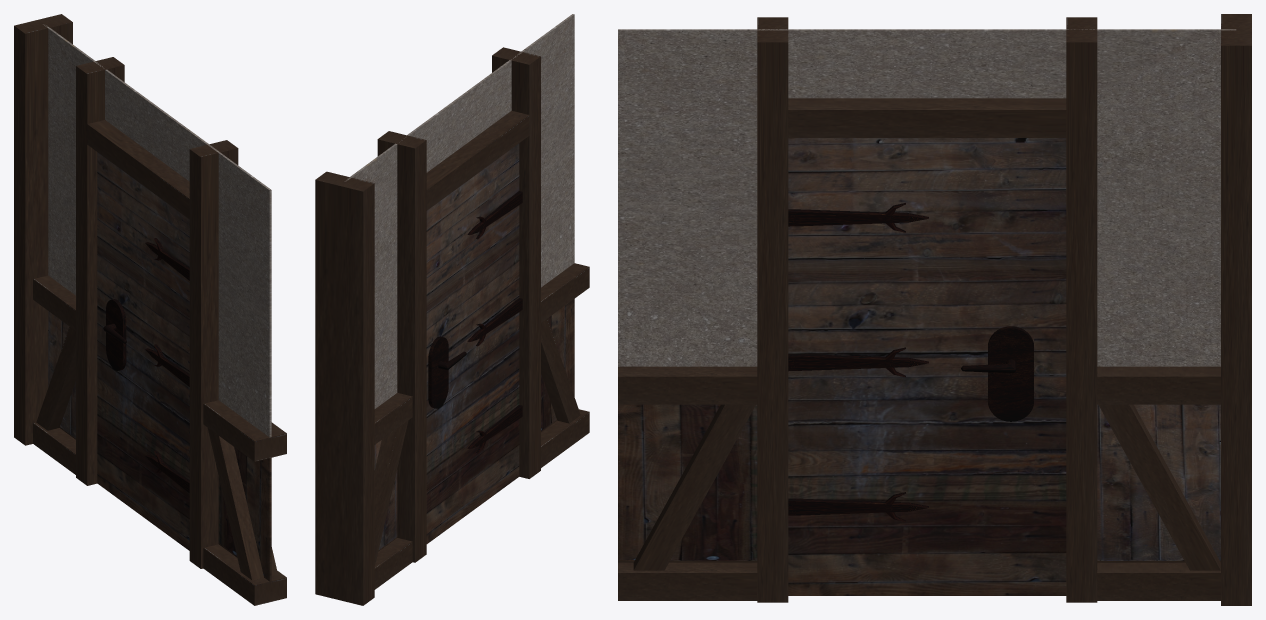
The model's file is OutdoorArchitecture_BasicWall01_Door01_Closed_RightEdge_BShortt.fbx.
The picture shows the model from 3 angles, left to right: view 1: azimuth 30°, elevation 25°; view 2: azimuth 150°, elevation 25°; view 3: azimuth 270°, elevation 25°; orthographic projection. The views are drawn at different scales.
Visible parts, largest first — view 1: OutdoorArchitecture_BasicWall01_Door01_Closed_RightEdge_BSho; view 2: OutdoorArchitecture_BasicWall01_Door01_Closed_RightEdge_BSho; view 3: OutdoorArchitecture_BasicWall01_Door01_Closed_RightEdge_BSho.
Boxes of the visible parts, x1,y1,x2,y2 form: OutdoorArchitecture_BasicWall01_Door01_Closed_RightEdge_BSho: (14,14,286,605); OutdoorArchitecture_BasicWall01_Door01_Closed_RightEdge_BSho: (315,14,589,605); OutdoorArchitecture_BasicWall01_Door01_Closed_RightEdge_BSho: (618,14,1251,605).
Size of the model in its own units: 36.37 by 300 by 308.
